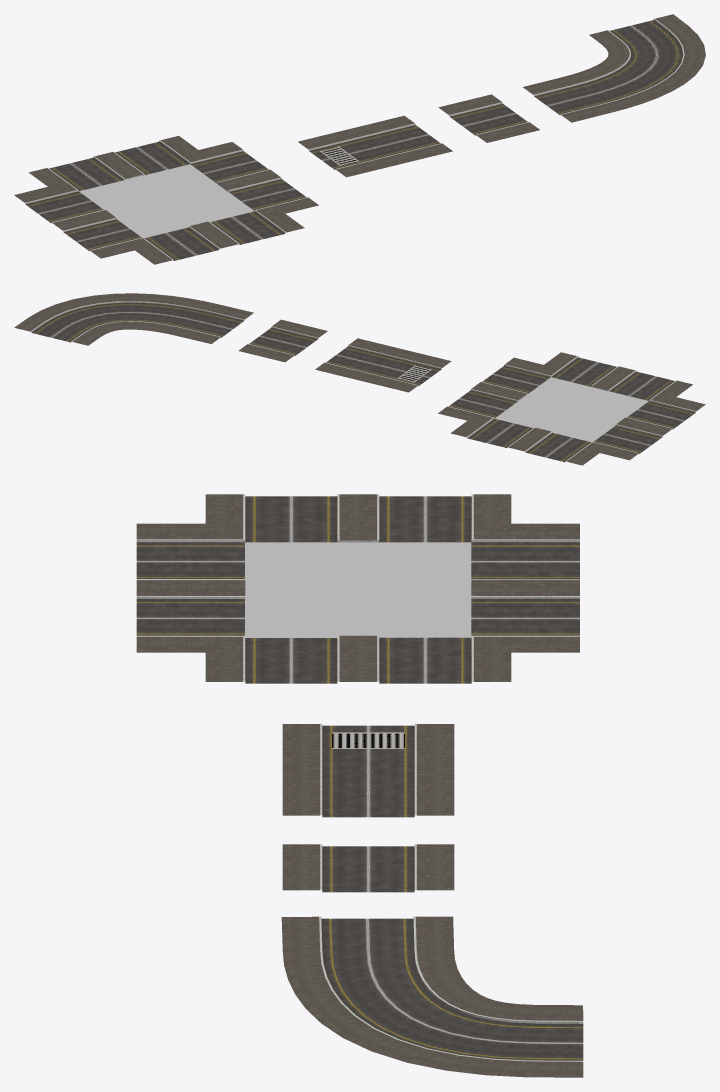
Rendered from Modular Roads.fbx.
3 views of the same model, one above another, from view 1: azimuth 30°, elevation 25°; view 2: azimuth 150°, elevation 25°; view 3: azimuth 270°, elevation 25° (orthographic). The views are drawn at different scales.
Parts seen in each view (by area): view 1: Plane.002, Plane.003, Plane.001, Plane.007, Plane.006, Plane, Plane.009, Plane.004, Plane.005, Plane.008; view 2: Plane.002, Plane.003, Plane.001, Plane.007, Plane.006, Plane, Plane.004, Plane.009, Plane.005, Plane.008; view 3: Plane.002, Plane.003, Plane.001, Plane.007, Plane.006, Plane, Plane.004, Plane.009, Plane.005, Plane.008.
Boxes of the visible parts, <box> form: Plane.002: <box>523,14,705,122</box>; Plane.003: <box>79,164,254,237</box>; Plane.001: <box>298,115,452,177</box>; Plane.007: <box>28,136,208,194</box>; Plane.006: <box>125,210,304,264</box>; Plane: <box>438,94,539,142</box>; Plane.009: <box>52,210,151,258</box>; Plane.004: <box>181,142,280,191</box>; Plane.005: <box>228,177,318,217</box>; Plane.008: <box>14,185,105,223</box>; Plane.002: <box>14,293,253,345</box>; Plane.003: <box>495,377,648,441</box>; Plane.001: <box>315,338,451,392</box>; Plane.007: <box>450,417,608,465</box>; Plane.006: <box>544,352,692,403</box>; Plane: <box>238,319,327,362</box>; Plane.004: <box>438,382,527,424</box>; Plane.009: <box>616,393,705,435</box>; Plane.005: <box>481,357,559,393</box>; Plane.008: <box>593,424,662,460</box>; Plane.002: <box>281,916,583,1077</box>; Plane.003: <box>245,542,471,637</box>; Plane.001: <box>282,723,454,817</box>; Plane.007: <box>471,523,579,652</box>; Plane.006: <box>136,523,245,652</box>; Plane: <box>282,844,454,892</box>; Plane.004: <box>339,635,511,683</box>; Plane.009: <box>205,494,379,542</box>; Plane.005: <box>205,635,339,683</box>; Plane.008: <box>377,494,511,542</box>.
Bounding box in the file's own units: 11990 × 19.14 × 3881.
